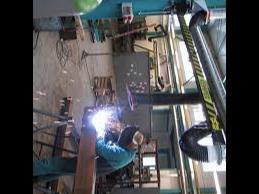controlled_fire: (90, 98, 110, 154)
